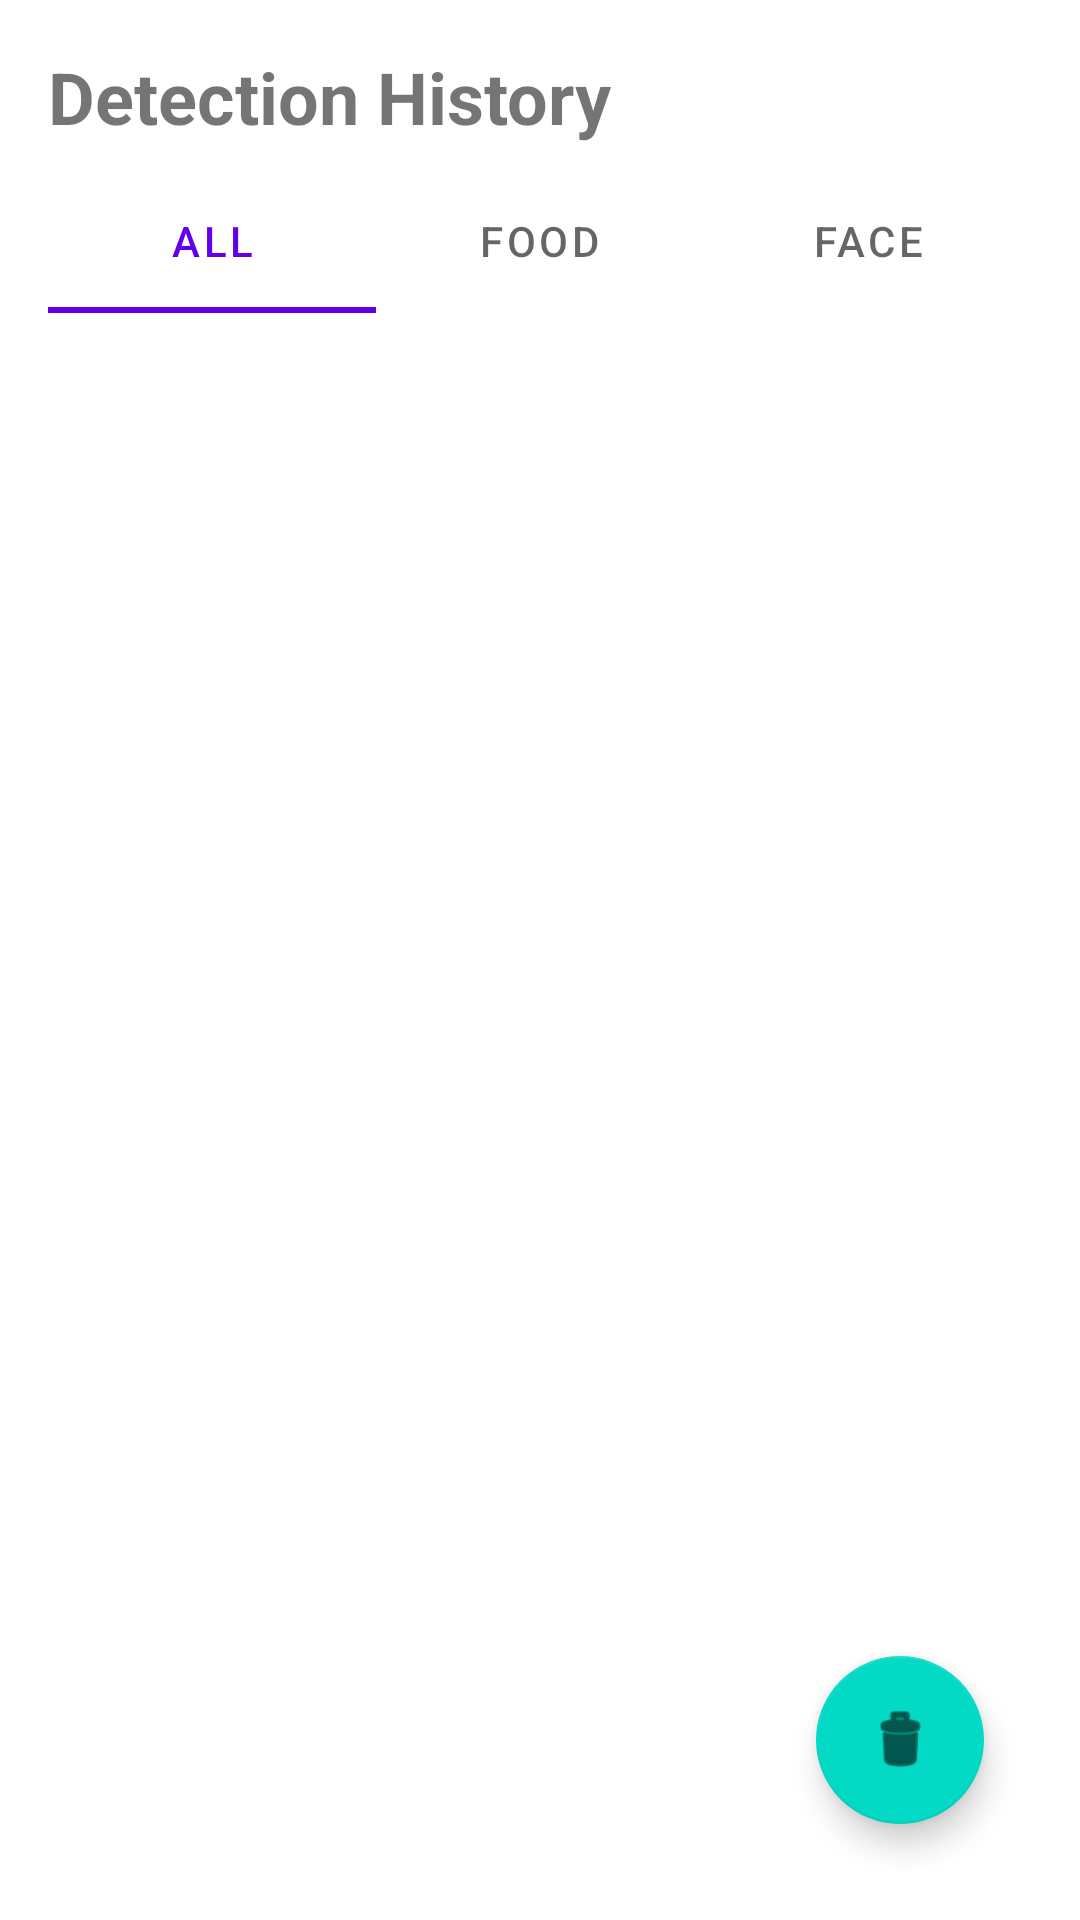

Locate icon controls on the screen. Image size 1080*1920, boxes as box(x1, y1, x2, y2).
Clear history: box(816, 1656, 984, 1824)
